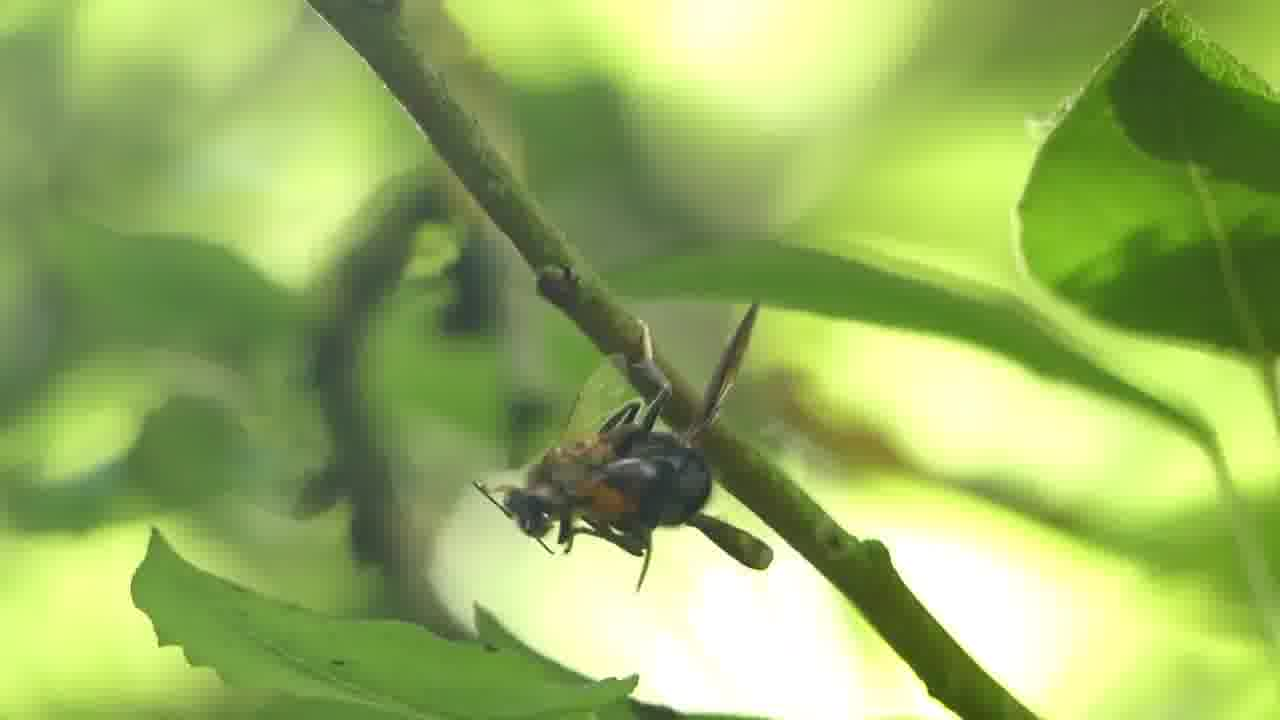hornet: (508, 414, 764, 565)
